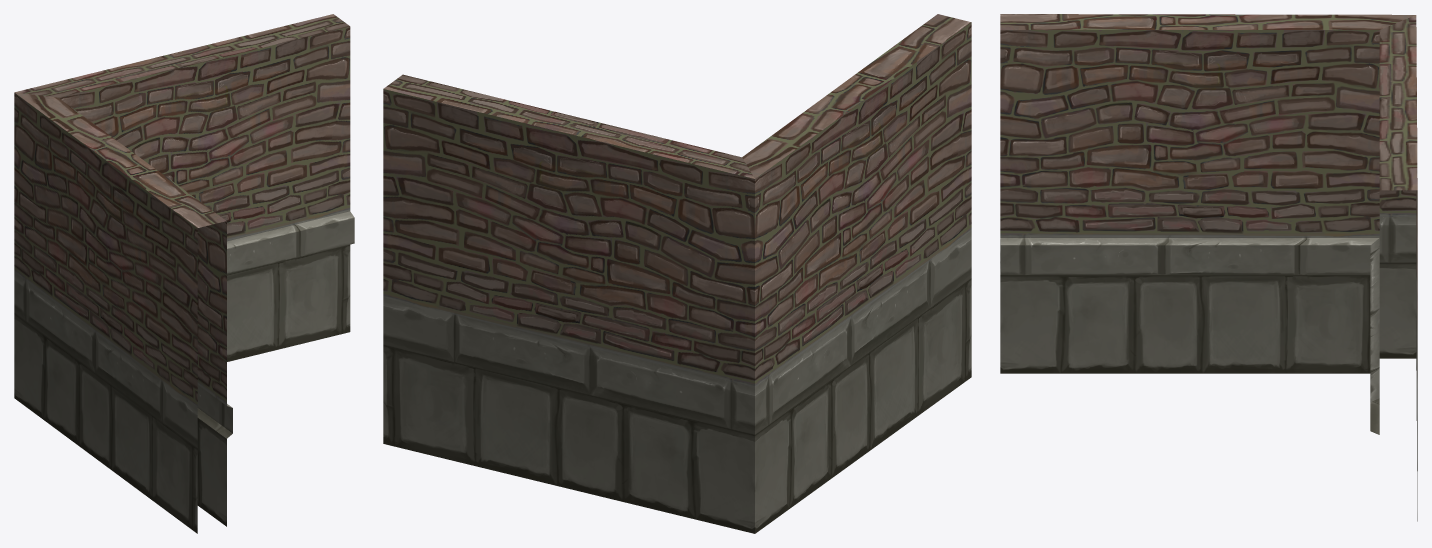
Rendered from WallBaseCorner.FBX.
3 renders of one model, left to right at view 1: azimuth 30°, elevation 25°; view 2: azimuth 150°, elevation 25°; view 3: azimuth 270°, elevation 25°, orthographic. The views are drawn at different scales.
Visible parts, largest first — view 1: WallBaseCorner; view 2: WallBaseCorner; view 3: WallBaseCorner.
Part boxes in pixels (box(x1,y1,x2,y2)): WallBaseCorner: box(14, 14, 354, 533); WallBaseCorner: box(383, 14, 971, 533); WallBaseCorner: box(1000, 14, 1417, 521).
Size of the model in its own units: 2.77 by 2.52 by 2.77.
